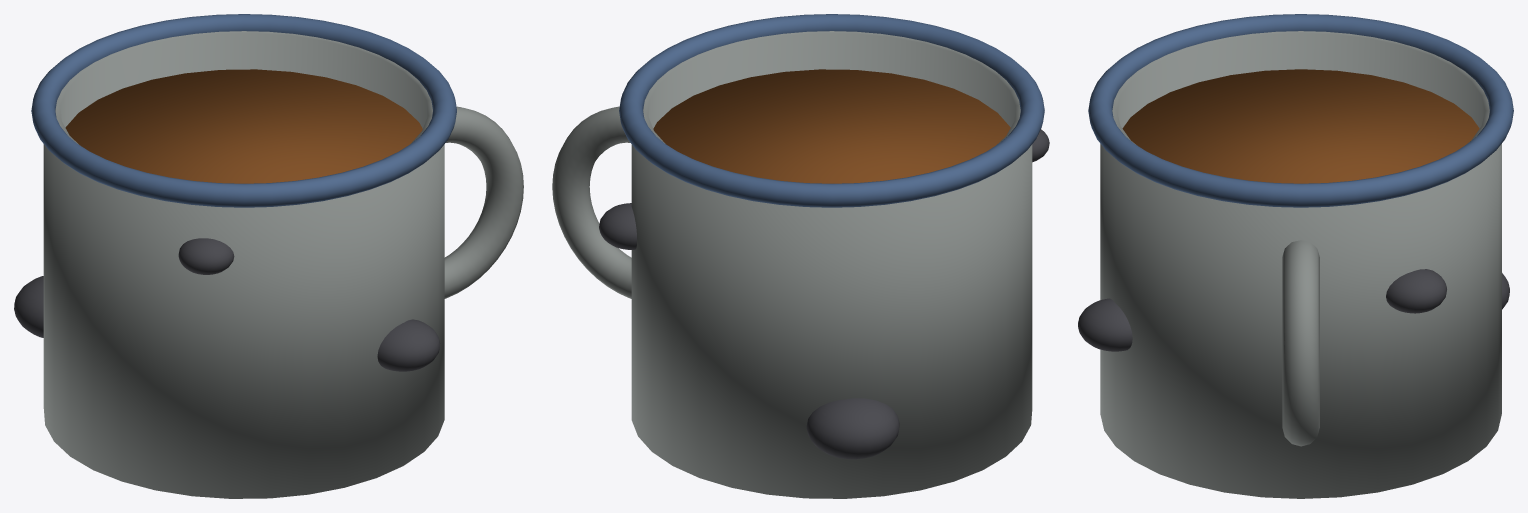
File: tea.glb
3 views of the same model, side by side, from view 1: azimuth 30°, elevation 25°; view 2: azimuth 150°, elevation 25°; view 3: azimuth 270°, elevation 25° (orthographic).
Visible parts, largest first — view 1: cup, tea, rim, handle, chip3, chip2, chip1; view 2: cup, tea, rim, handle, chip1, chip0; view 3: cup, tea, rim, handle, chip3, chip0.
Part boxes in pixels (x1=…): cup: x1=43, y1=31, x2=444, y2=498; tea: x1=65, y1=69, x2=422, y2=183; rim: x1=31, y1=14, x2=456, y2=207; handle: x1=444, y1=106, x2=523, y2=298; chip3: x1=377, y1=319, x2=440, y2=371; chip2: x1=178, y1=238, x2=234, y2=274; chip1: x1=14, y1=276, x2=43, y2=337; cup: x1=631, y1=31, x2=1032, y2=498; tea: x1=653, y1=69, x2=1010, y2=183; rim: x1=619, y1=14, x2=1044, y2=207; handle: x1=552, y1=106, x2=631, y2=298; chip1: x1=806, y1=398, x2=899, y2=459; chip0: x1=599, y1=203, x2=637, y2=249; cup: x1=1100, y1=31, x2=1501, y2=498; tea: x1=1122, y1=69, x2=1479, y2=183; rim: x1=1088, y1=14, x2=1513, y2=207; handle: x1=1282, y1=240, x2=1319, y2=446; chip3: x1=1078, y1=298, x2=1132, y2=351; chip0: x1=1386, y1=269, x2=1446, y2=313.
Size of the model in its own units: 0.796 by 0.518 by 0.6513.
